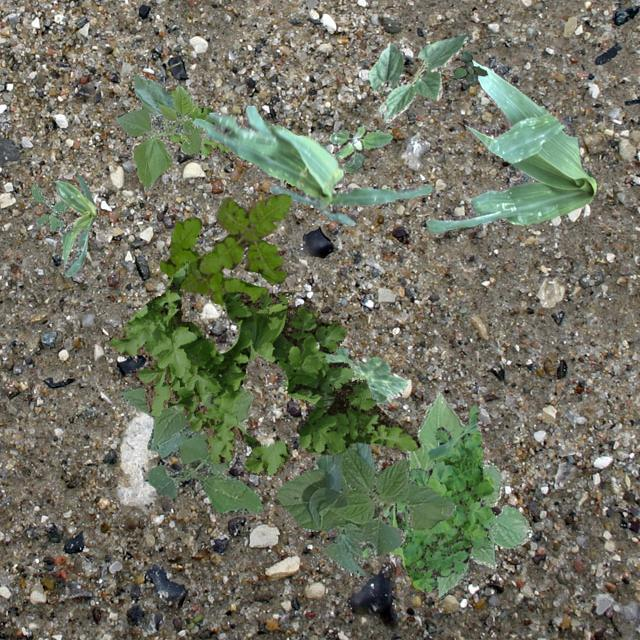crop: (382, 391, 532, 598), (427, 58, 596, 230), (192, 104, 432, 224), (276, 440, 454, 574), (116, 72, 206, 190), (368, 32, 466, 122), (324, 346, 406, 404), (52, 172, 96, 276)
weed: (108, 258, 420, 474), (360, 404, 494, 590), (118, 384, 260, 512), (158, 192, 290, 304), (163, 86, 230, 156), (328, 125, 392, 172), (30, 182, 70, 230), (452, 48, 487, 86)
